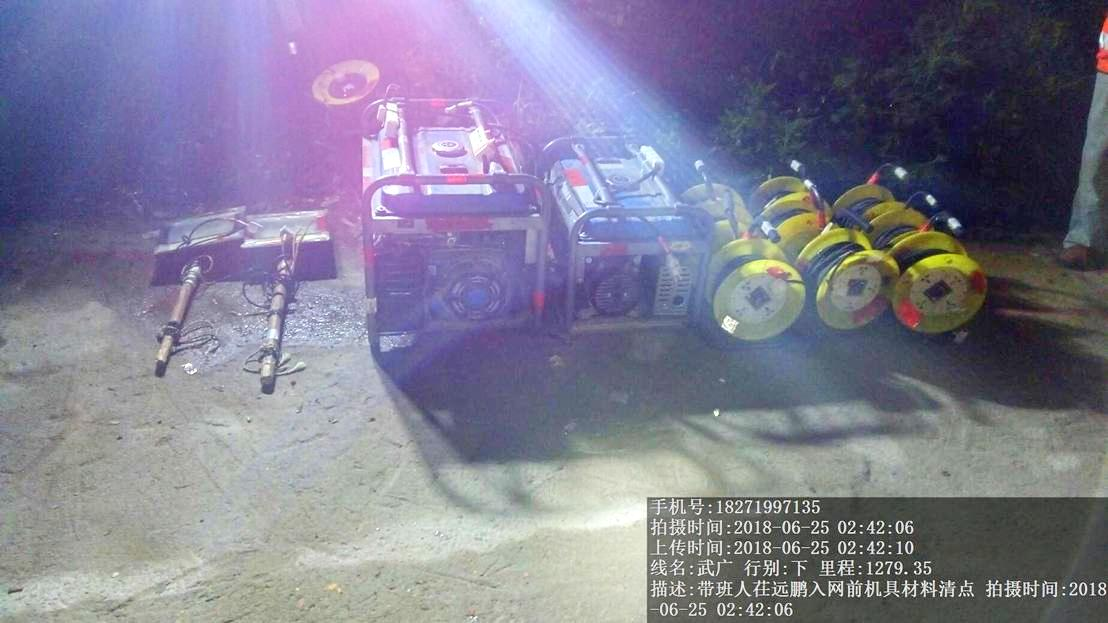DJ: (347, 102, 547, 337), (552, 127, 709, 333)
DX: (881, 223, 987, 331), (709, 238, 803, 342), (804, 230, 894, 335)
